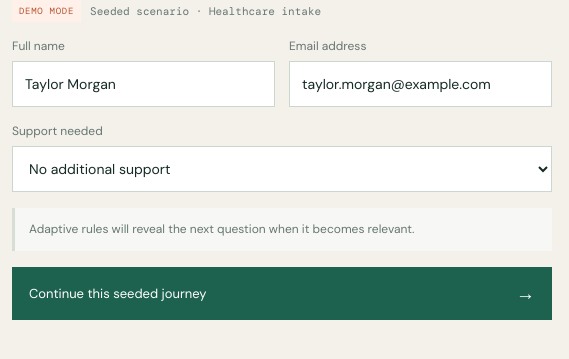
DemoForm › reveals healthcare support questions from the synthetic patient scenario
The image size is (569, 359).
Select "Mobility support" in the dropdown labelled "Support needed": (282, 169) [12,146,552,192]
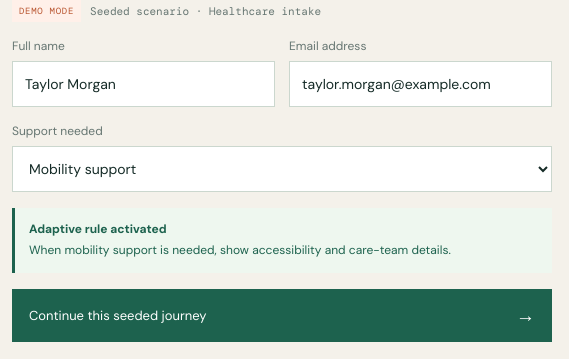
Expected: the message shows "accessibility and care-team details", [29,242,451,258]
